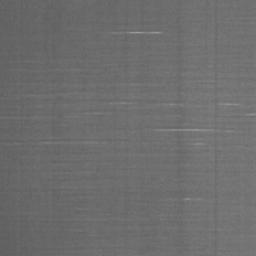Waist folding: (84, 82, 256, 153), (0, 67, 95, 121), (0, 138, 147, 165), (111, 30, 163, 36), (168, 196, 202, 202), (199, 79, 225, 86), (42, 220, 107, 222), (73, 248, 101, 251)
